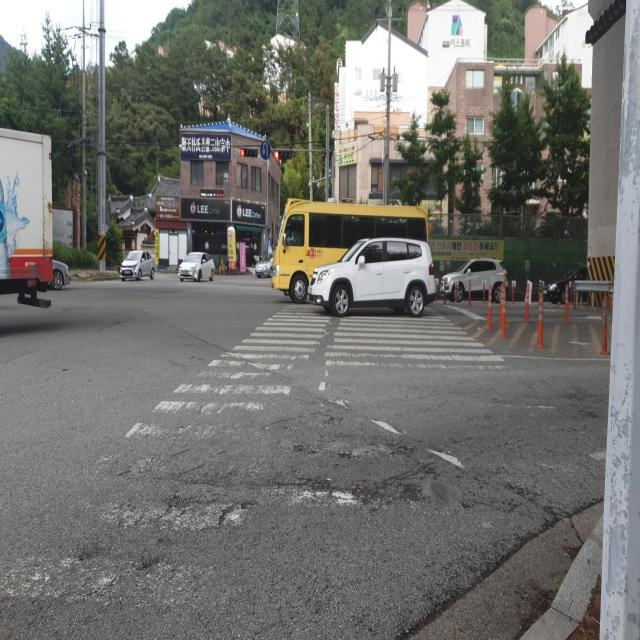횡단보도: (0, 301, 505, 608)
